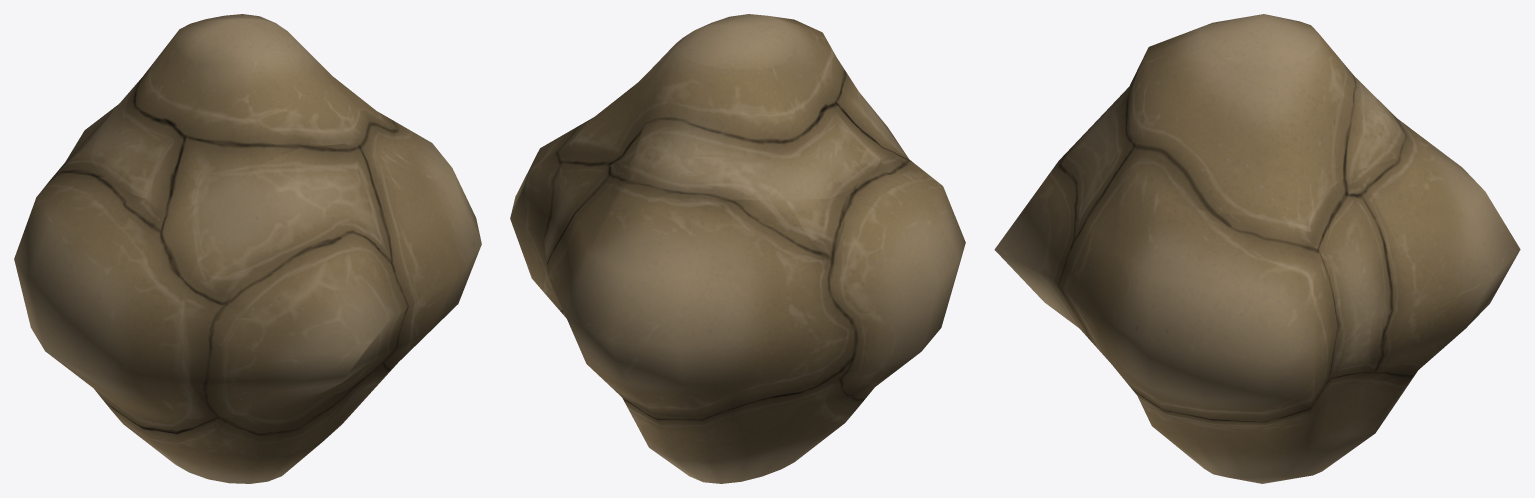
The model's file is Rock 2.FBX.
3 renders of one model, left to right at view 1: azimuth 30°, elevation 25°; view 2: azimuth 150°, elevation 25°; view 3: azimuth 270°, elevation 25°, orthographic.
Parts seen in each view (by area): view 1: Rock 2; view 2: Rock 2; view 3: Rock 2.
Part boxes in pixels (bbox=[...]): Rock 2: bbox=[14, 14, 481, 483]; Rock 2: bbox=[510, 14, 965, 483]; Rock 2: bbox=[994, 14, 1520, 483].
Size of the model in its own units: 26.01 by 26.42 by 27.56.
Materials: 1 (1 with a texture image).
